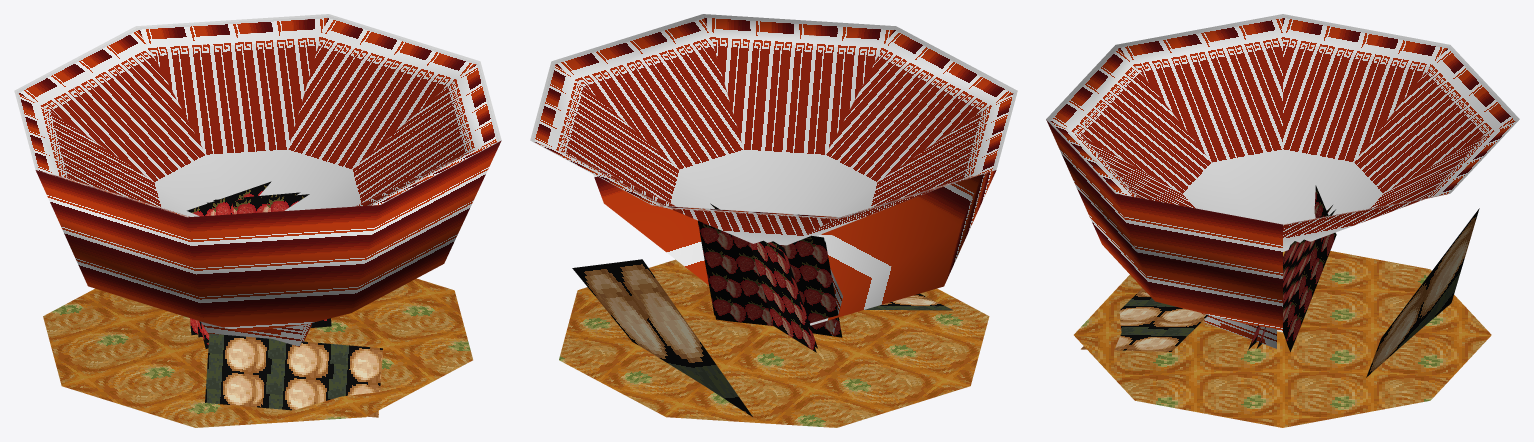
The model's file is 5535u_ramn02_hs.gltf.
3 renders of one model, left to right at view 1: azimuth 30°, elevation 25°; view 2: azimuth 150°, elevation 25°; view 3: azimuth 270°, elevation 25°, orthographic. The views are drawn at different scales.
Visible parts, largest first — view 1: 5535u_ramn02_hs; view 2: 5535u_ramn02_hs; view 3: 5535u_ramn02_hs.
Boxes of the visible parts, <box> form: 5535u_ramn02_hs: <box>14,14,501,427</box>; 5535u_ramn02_hs: <box>530,14,1017,427</box>; 5535u_ramn02_hs: <box>1046,14,1519,427</box>.
Size of the model in its own units: 0.7798 by 0.4629 by 0.7417.
5 materials, 5 textured.
